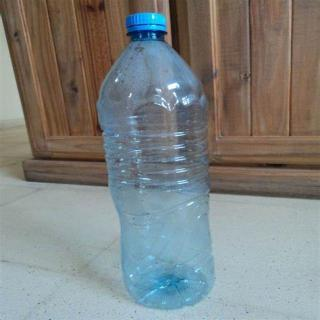Anorganik: (93, 5, 225, 311)
